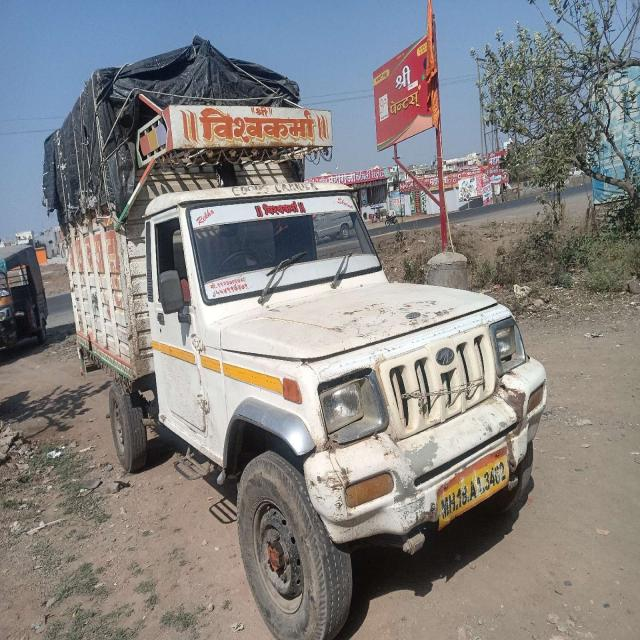light_vehicle: (71, 182, 538, 512)
